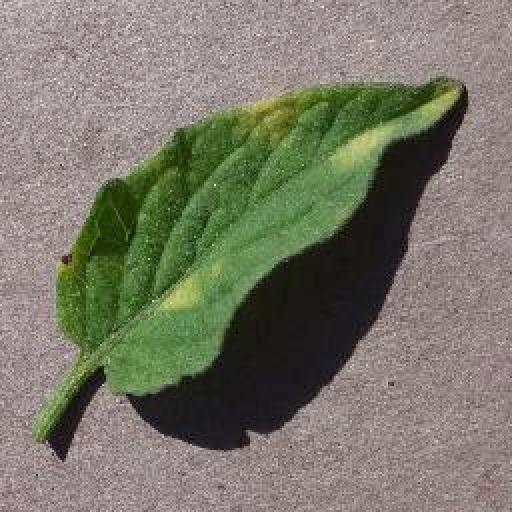disease_tomato: (58, 76, 466, 398)
